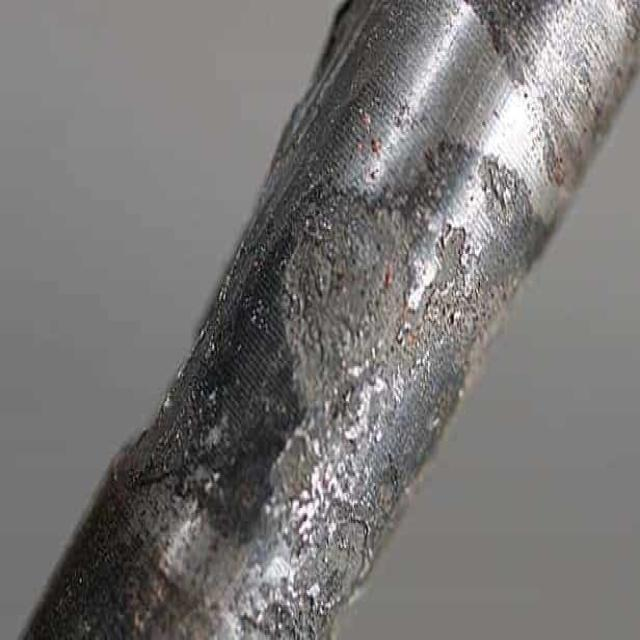Uniform Corrosion: (21, 1, 639, 637)
